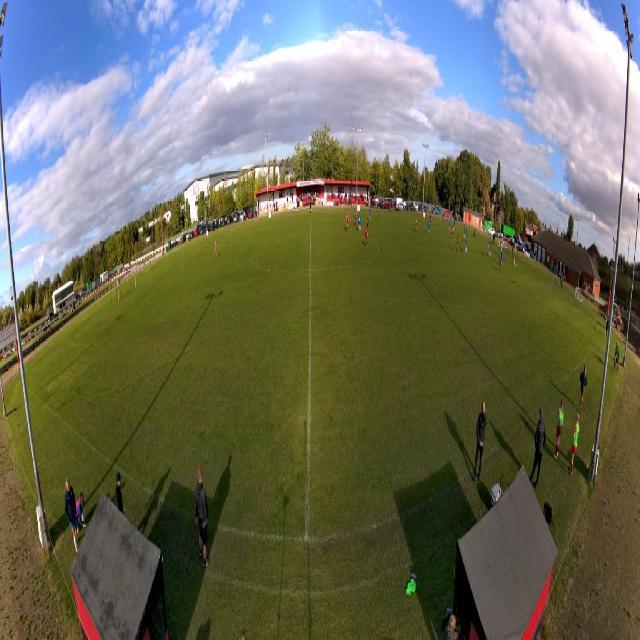player: (365, 222, 369, 249), (346, 210, 350, 232), (358, 212, 362, 232), (456, 234, 459, 254), (215, 239, 218, 259), (465, 235, 468, 254), (354, 208, 357, 226), (500, 250, 503, 267), (415, 216, 418, 233), (499, 257, 502, 274), (369, 206, 372, 222), (451, 224, 454, 240), (489, 240, 491, 258), (487, 241, 489, 259), (428, 218, 430, 234), (463, 225, 465, 240), (429, 212, 431, 227), (453, 218, 455, 233), (449, 218, 451, 232), (442, 215, 444, 229), (500, 242, 502, 256), (466, 228, 468, 239)
